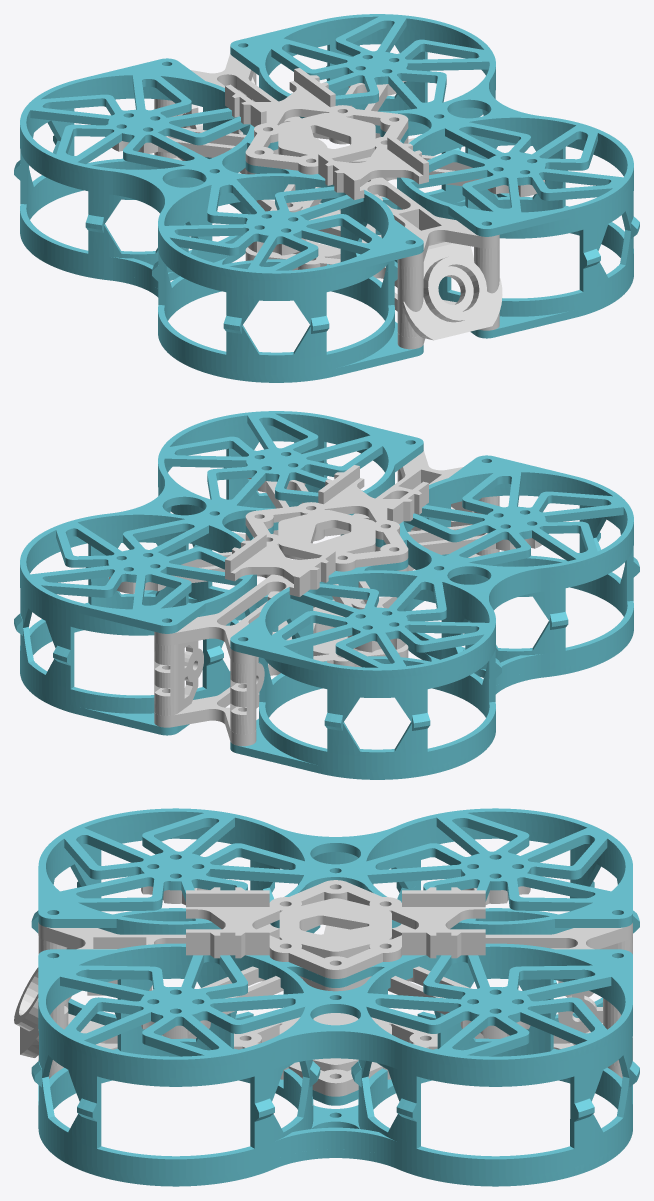
File: bateleur.v0.2.6.glb
3 renders of one model, top to bottom at view 1: azimuth 30°, elevation 25°; view 2: azimuth 150°, elevation 25°; view 3: azimuth 270°, elevation 25°, orthographic. The views are drawn at different scales.
Parts seen in each view (by area): view 1: Propguards-Topleft, Propguards-Topleft.001, Propguards-Bottomleft, Batteryplate, Propguards-Bottomleft.001, Coretop, Antennamount, Corebottom; view 2: Propguards-Topleft, Propguards-Topleft.001, Propguards-Bottomleft, Batteryplate, Propguards-Bottomleft.001, Coretop, Corebottom, Camera Bracket.001, Camera Bracket, Antennamount; view 3: Propguards-Topleft.001, Propguards-Topleft, Propguards-Bottomleft.001, Batteryplate, Coretop, Corebottom, Propguards-Bottomleft, Antennamount, Camera Bracket.001.
Boxes of the visible parts, x1,y1,x2,y2 form: Propguards-Topleft: (14,58,423,333); Propguards-Topleft.001: (230,14,639,268); Propguards-Bottomleft: (20,140,423,382); Batteryplate: (225,68,428,199); Propguards-Bottomleft.001: (320,75,633,338); Coretop: (112,53,544,267); Antennamount: (397,242,502,340); Corebottom: (173,157,499,349); Propguards-Topleft: (230,455,639,730); Propguards-Topleft.001: (14,411,423,665); Propguards-Bottomleft: (230,537,633,779); Batteryplate: (225,465,428,596); Propguards-Bottomleft.001: (20,472,333,735); Coretop: (109,450,541,664); Corebottom: (154,554,480,746); Camera Bracket.001: (154,640,203,715); Camera Bracket: (230,656,264,734); Antennamount: (397,469,499,555); Propguards-Topleft.001: (31,943,639,1121); Propguards-Topleft: (31,808,639,984); Propguards-Bottomleft.001: (38,1014,632,1186); Batteryplate: (186,880,485,978); Coretop: (38,886,632,1038); Corebottom: (38,1013,622,1096); Propguards-Bottomleft: (68,886,632,1035); Antennamount: (14,937,71,1065); Camera Bracket.001: (558,991,632,1065).
Bounding box in the file's own units: 119 × 33 × 125.
